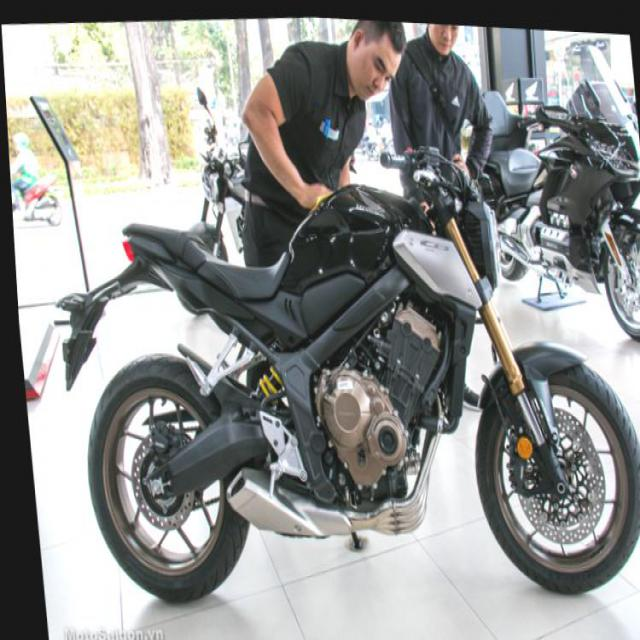CB650R: (54, 127, 639, 631)
